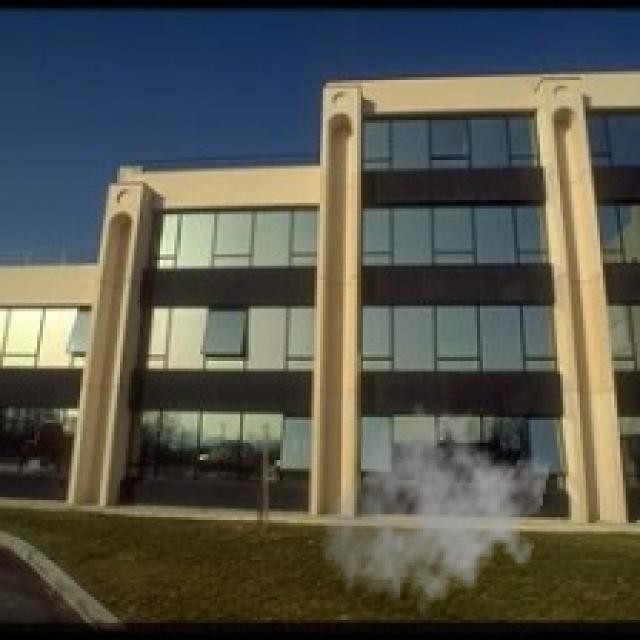Smoke: (319, 400, 552, 626)
